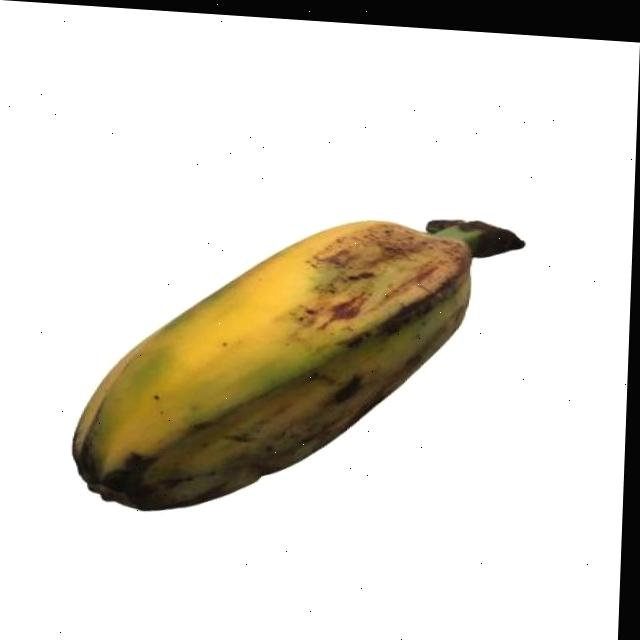banana: (65, 189, 531, 536)
